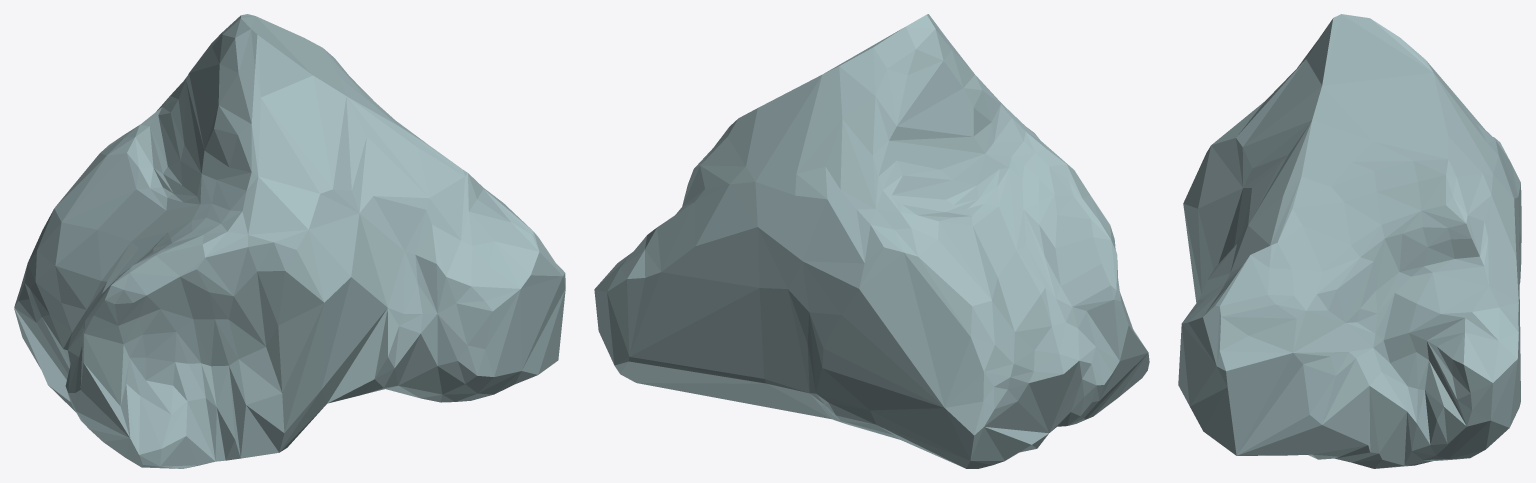
The model's file is mountain2.fbx.
3 views of the same model, side by side, from view 1: azimuth 30°, elevation 25°; view 2: azimuth 150°, elevation 25°; view 3: azimuth 270°, elevation 25° (orthographic). The views are drawn at different scales.
Visible parts, largest first — view 1: Group31926; view 2: Group31926; view 3: Group31926.
Part boxes in pixels (x1=…): Group31926: x1=14, y1=14, x2=565, y2=468; Group31926: x1=594, y1=14, x2=1149, y2=468; Group31926: x1=1178, y1=14, x2=1521, y2=468.
Size of the model in its own units: 11174 by 9322 by 8145.
